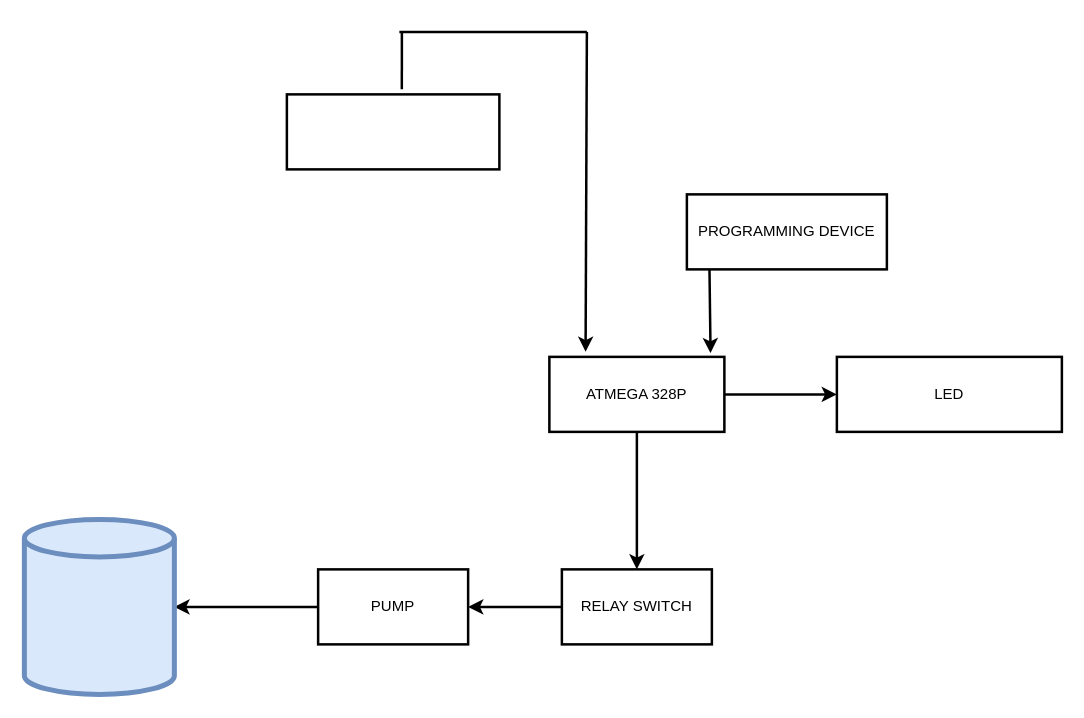
Some shapes in this 1084 by 718 pixel diagram are drawn without their labels. The box of each missing label's shape, as (x1, y1, x2, y2) in pixels:
TANK: (21, 516, 176, 696)
ULTRA SONIC SENSOR: (285, 92, 500, 170)
